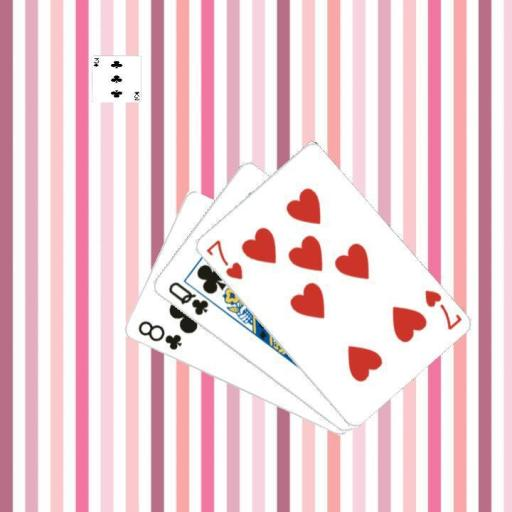card-corner: (420, 287, 464, 332), (202, 236, 244, 282), (164, 278, 210, 317), (134, 317, 183, 352)
